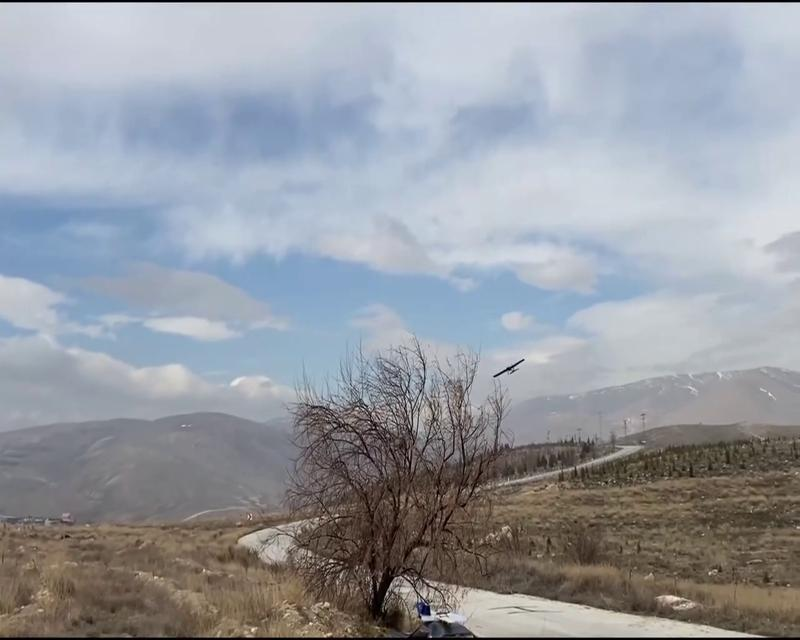UAV: (493, 358, 525, 378)
